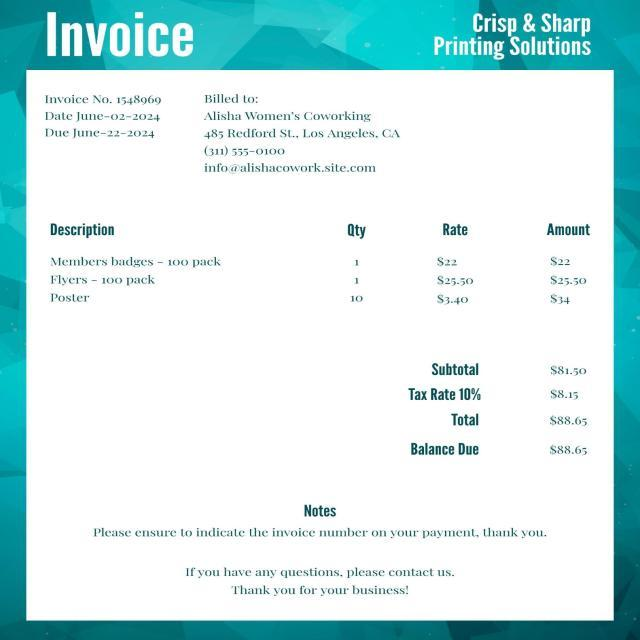ROI: (32, 204, 600, 330), (74, 496, 558, 548), (401, 354, 604, 476), (196, 90, 410, 180), (160, 554, 464, 614), (418, 8, 610, 64), (33, 10, 204, 64), (33, 86, 177, 148)
